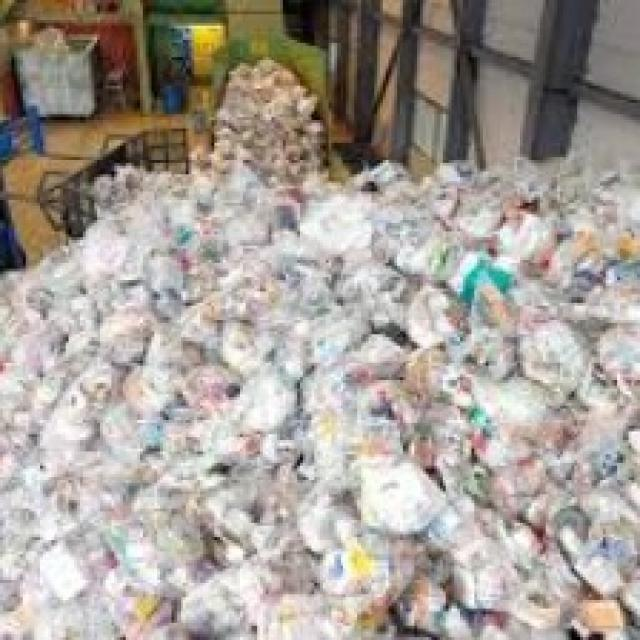heap: (74, 305, 300, 511), (341, 309, 521, 496), (234, 201, 379, 337)
plastic_bag: (351, 458, 445, 537), (448, 538, 538, 618), (519, 311, 598, 389), (134, 255, 192, 302)
